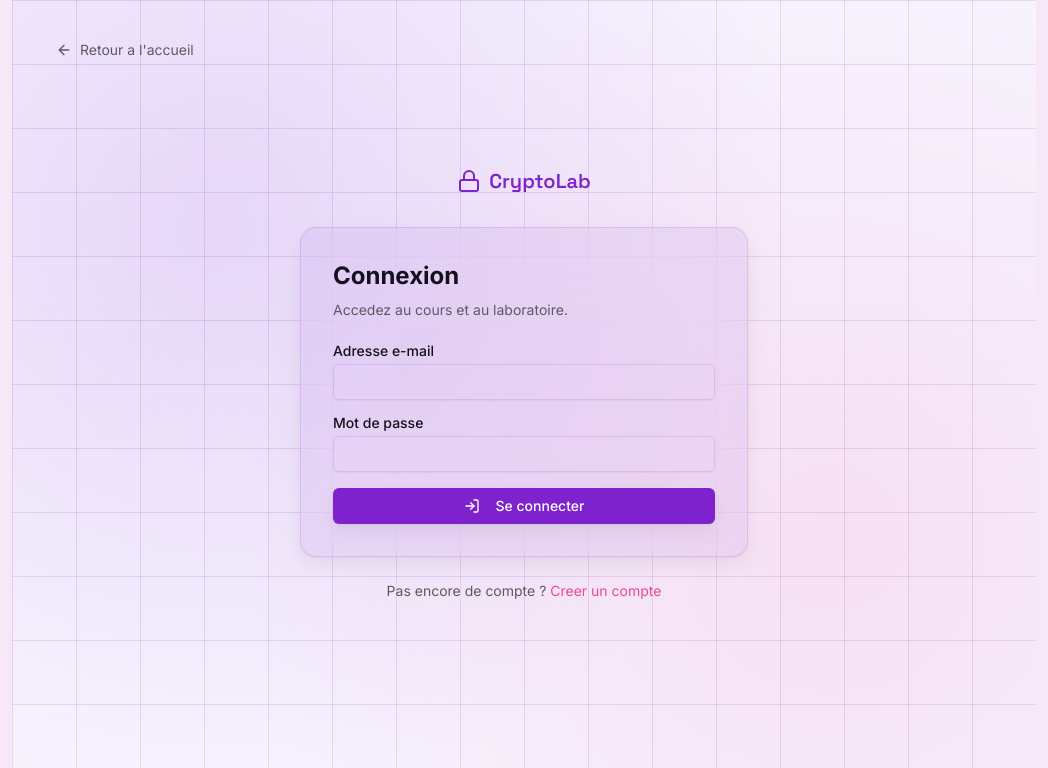
it: echec de connexion › affiche un message de repli quand le reseau tombe
Step 1. Type "etudiant@fsm.tn" into the field labelled "Adresse e-mail" → (524, 382), box left=333, top=364, right=715, bottom=400
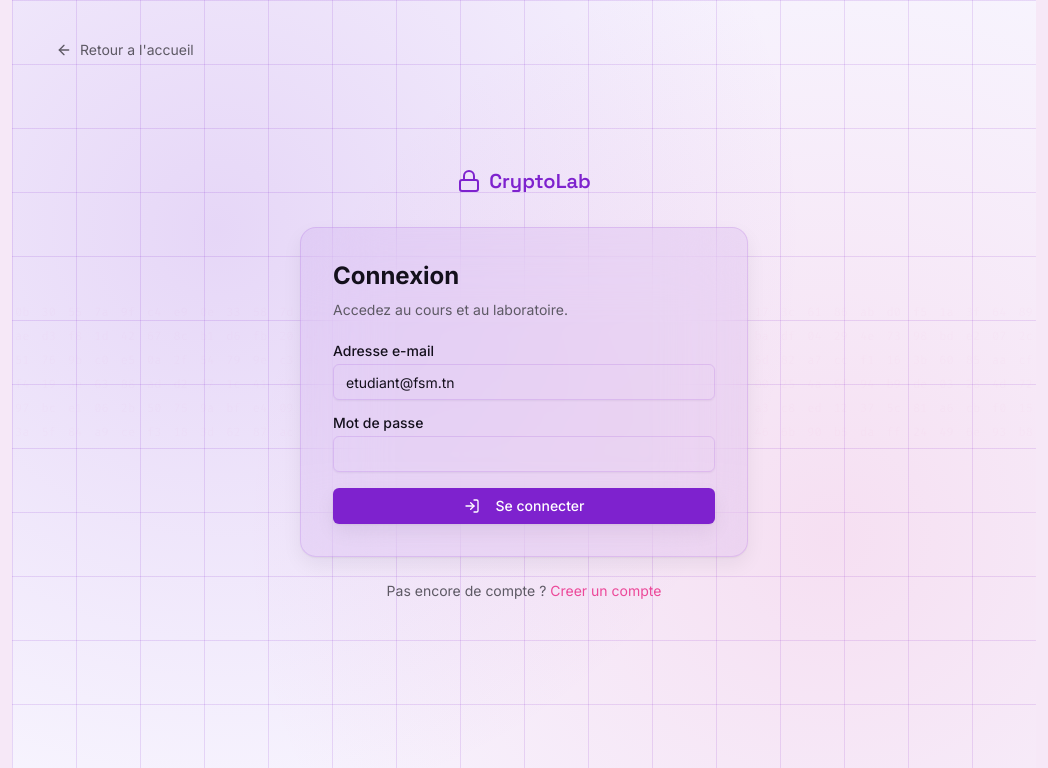
Step 2. Type "phrase de passe" into the password field labelled "Mot de passe" → (524, 454), box left=333, top=436, right=715, bottom=472
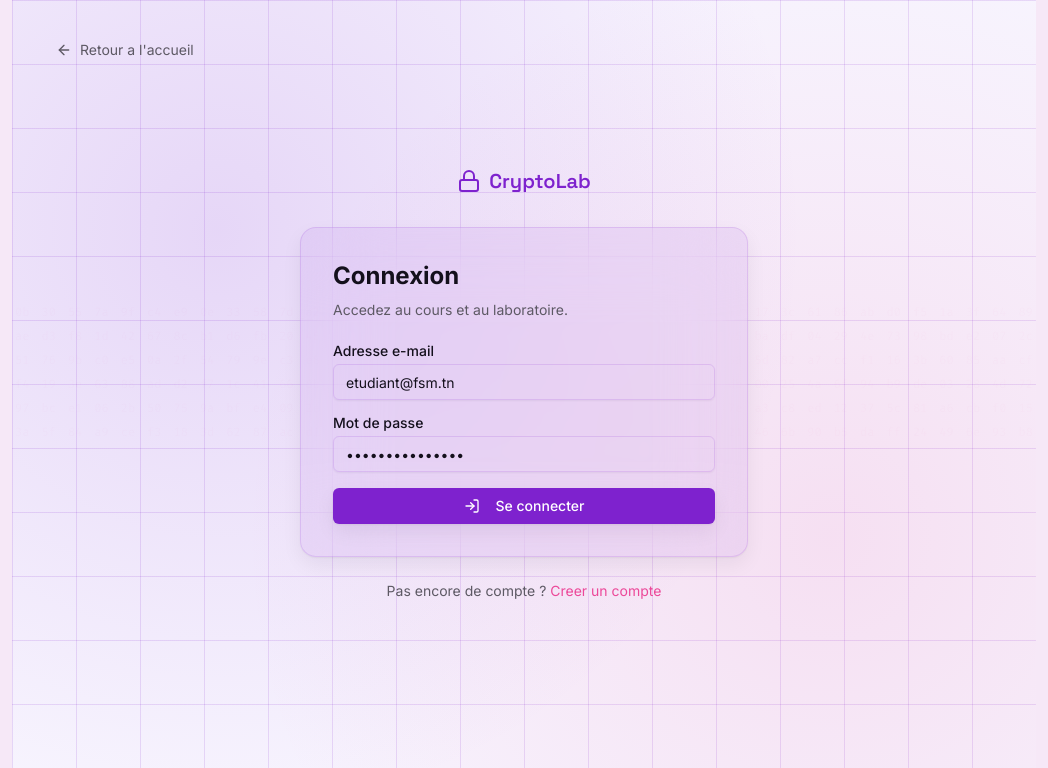
Step 3. Click the button "Se connecter" → (524, 506), box left=333, top=488, right=715, bottom=524
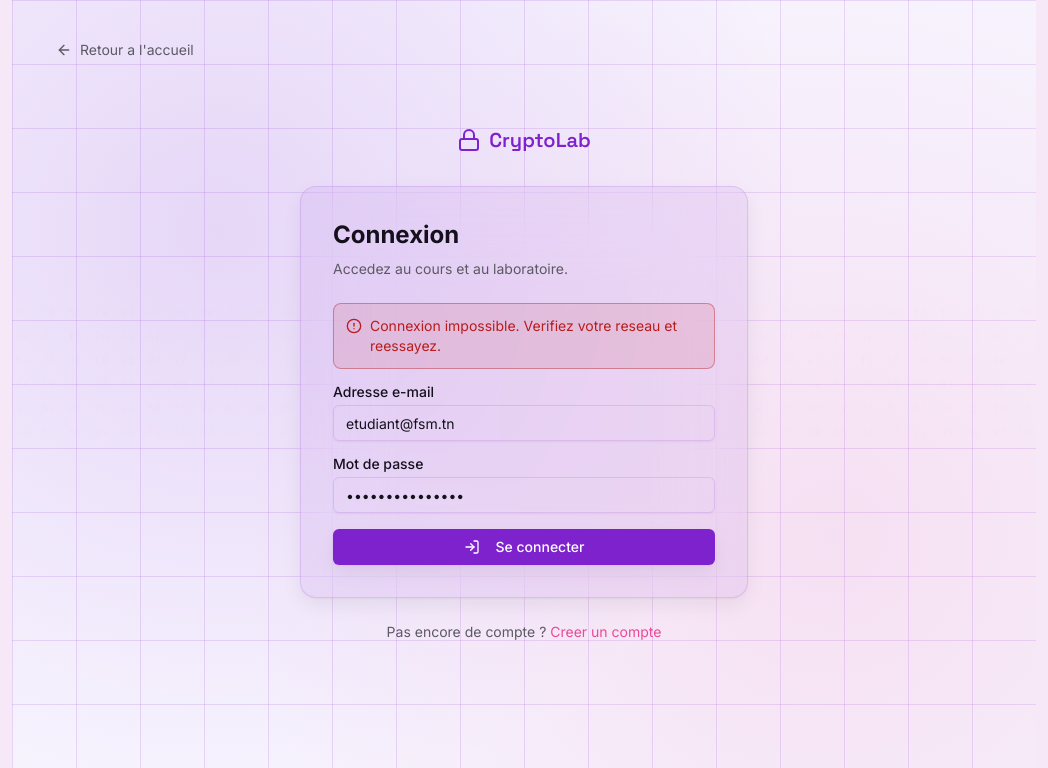
expect the message shows "reseau": met, box left=370, top=317, right=677, bottom=354
